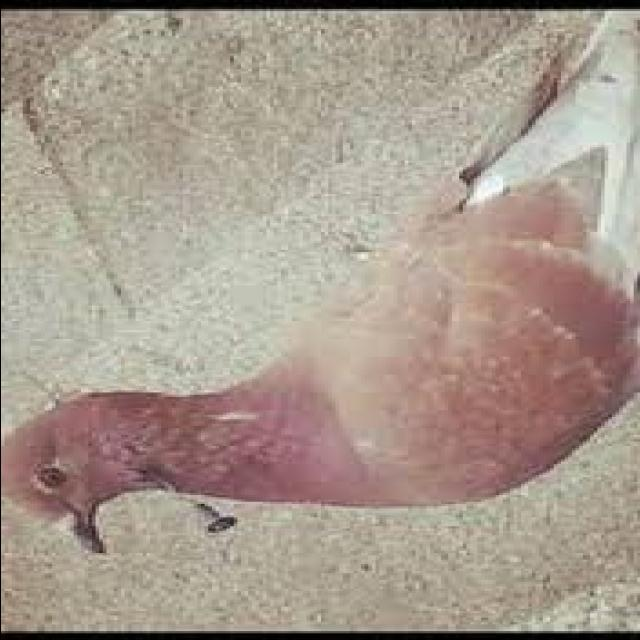pigeon: (0, 16, 640, 554)
